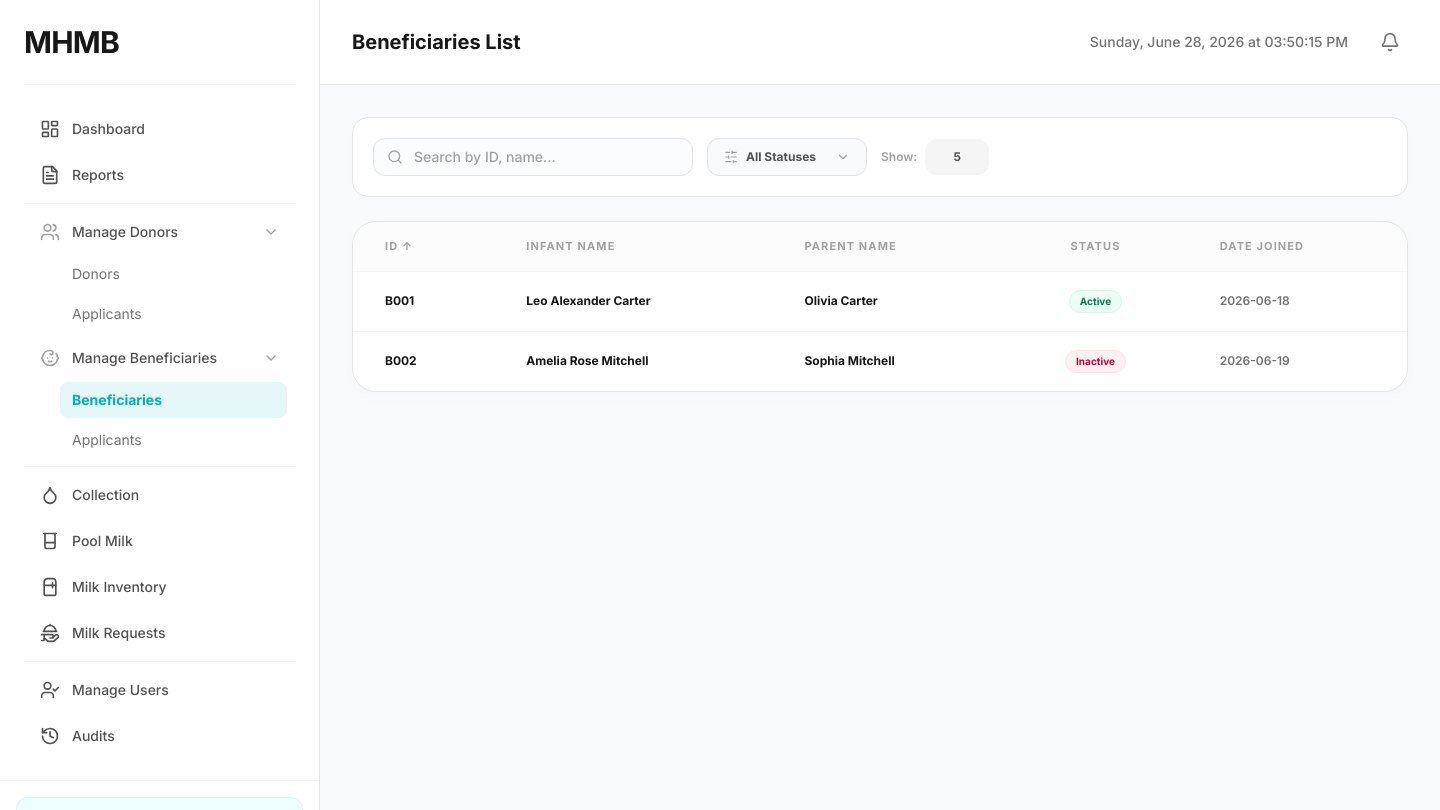
StaffBeneficiariesManagement Component › filters data by search input and status dropdown
This screenshot has width=1440, height=810.
Check: the text "Leo Alexander Carter" is shown, box [494, 271, 772, 331]
Search for "Amelia"
Step 1. Type "Amelia" into the field with test id "search-input" → (533, 157), box [373, 138, 693, 176]
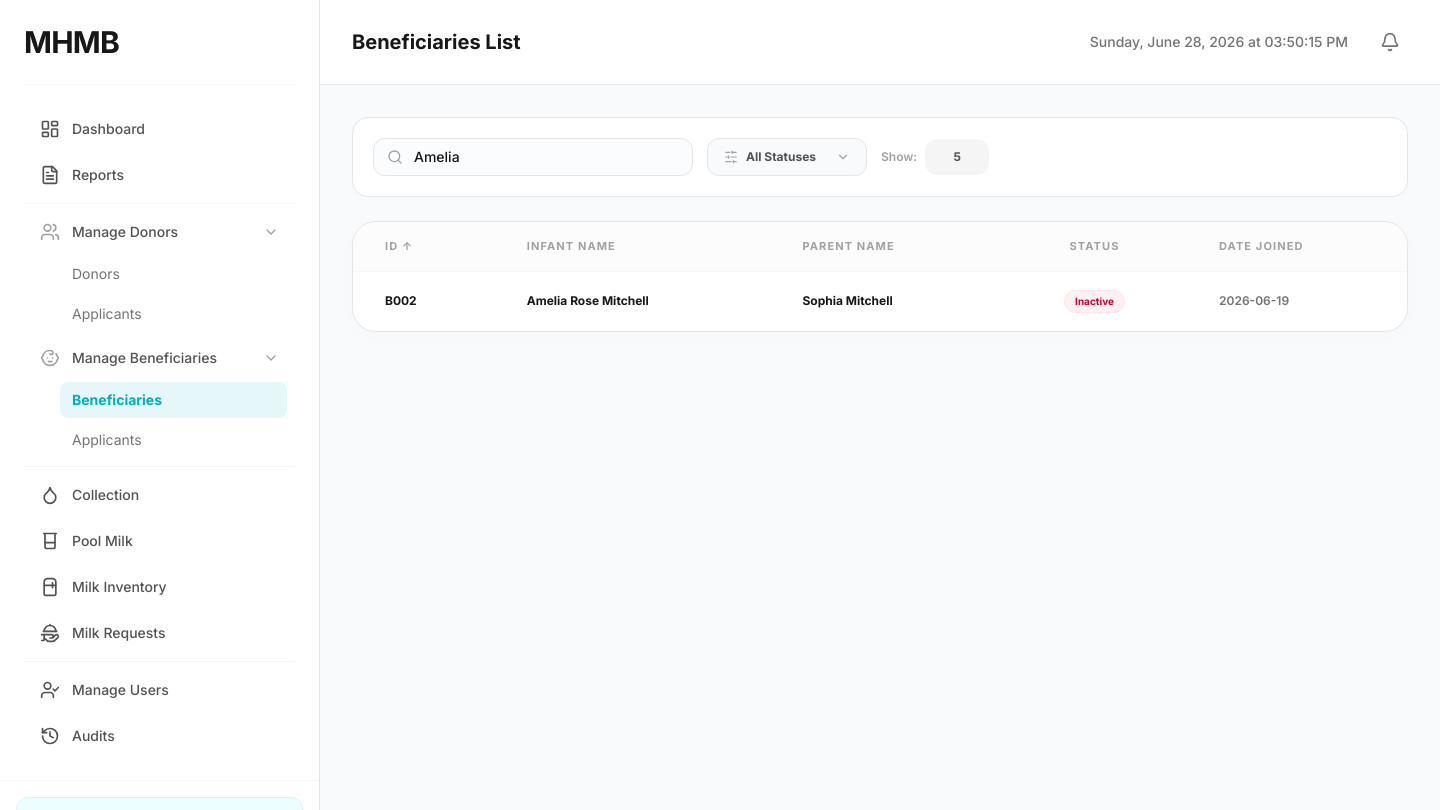
Check: the text "Amelia Rose Mitchell" is shown, box [495, 271, 770, 331]
Check: the text "Leo Alexander Carter" is gone
Clear search
Step 2. Clear the field with test id "search-input" → (533, 157), box [373, 138, 693, 176]
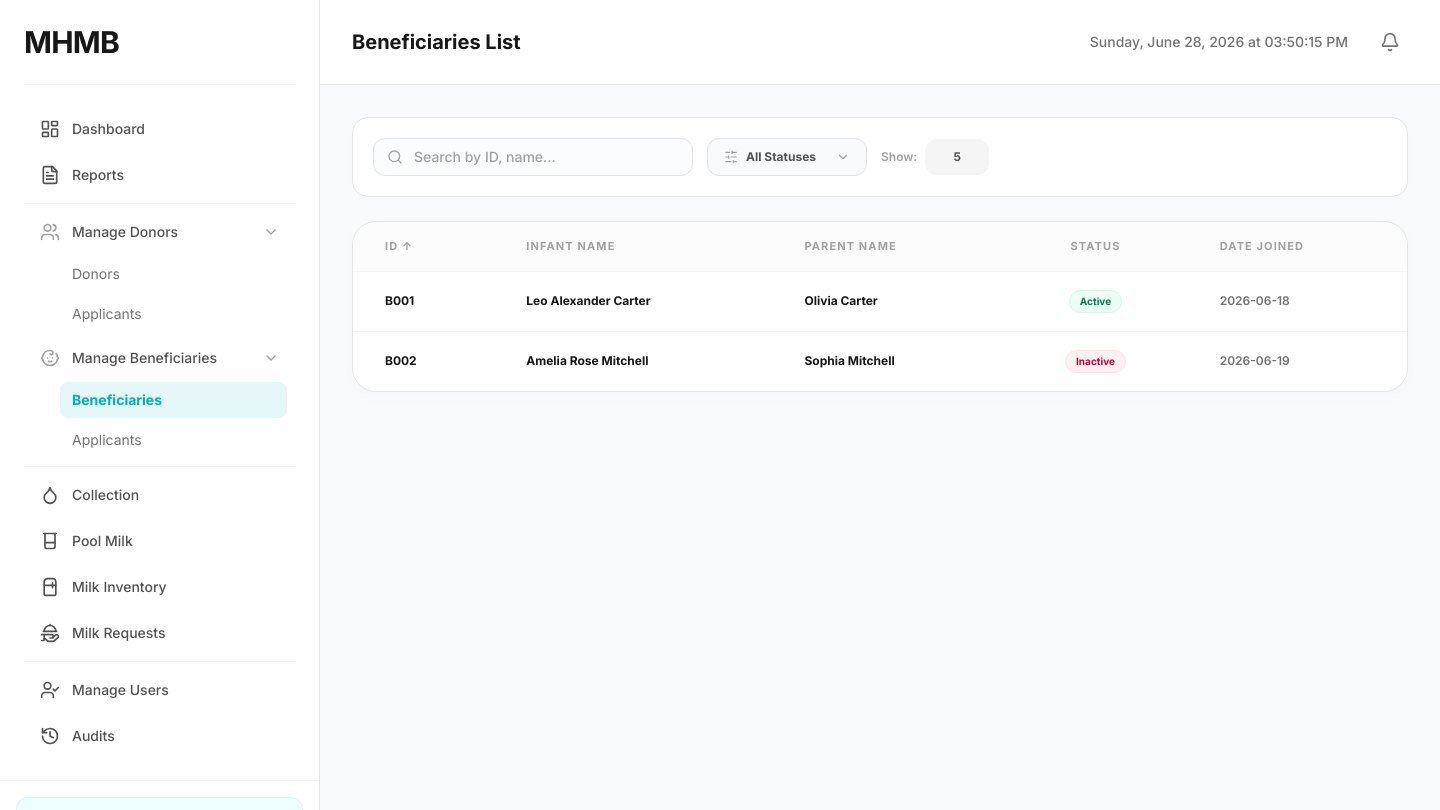
Filter by Inactive status
Step 3. Click the button with test id "status-select" → (787, 157), box [707, 138, 867, 176]
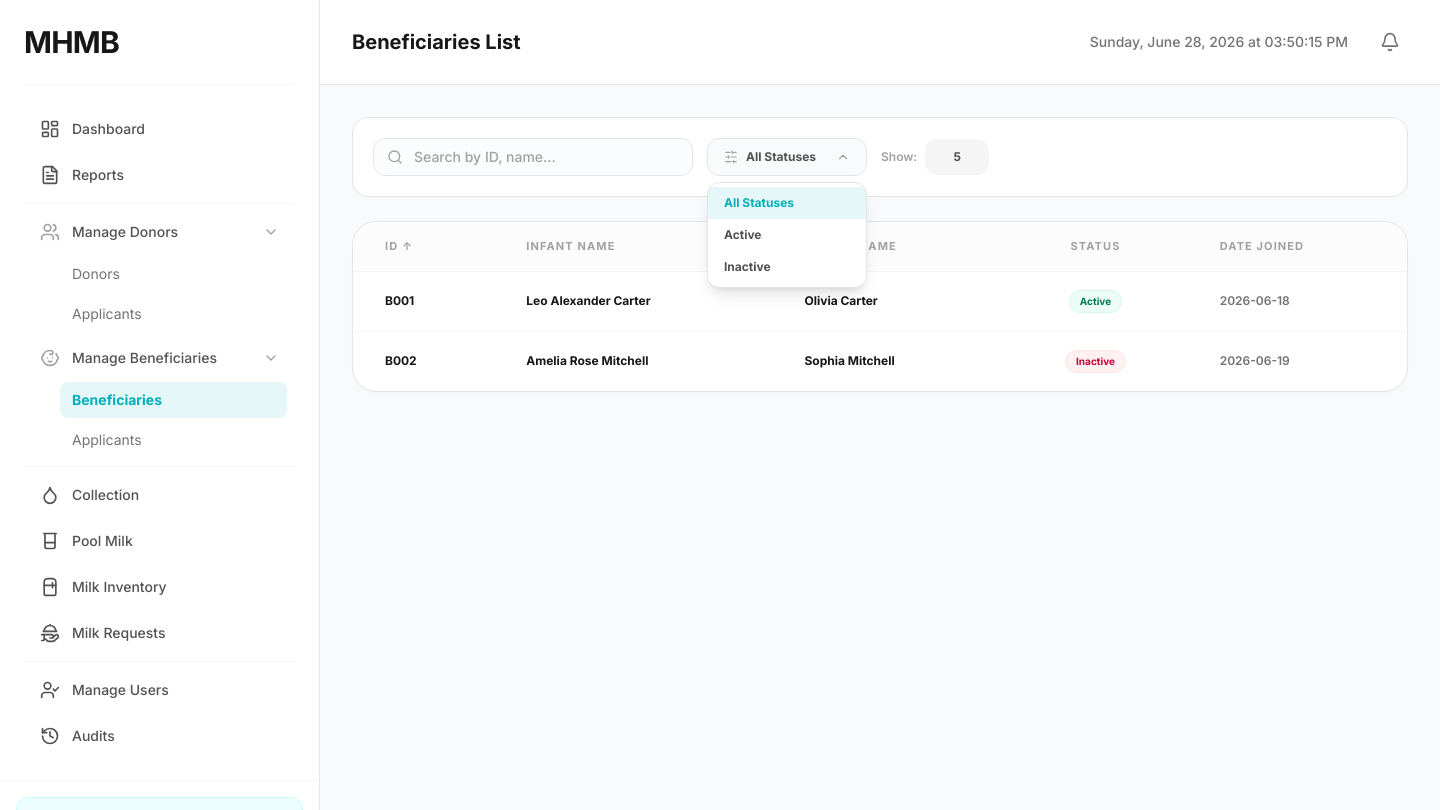
Step 4. Click the button with test id "option-Inactive" → (787, 267), box [708, 251, 866, 283]
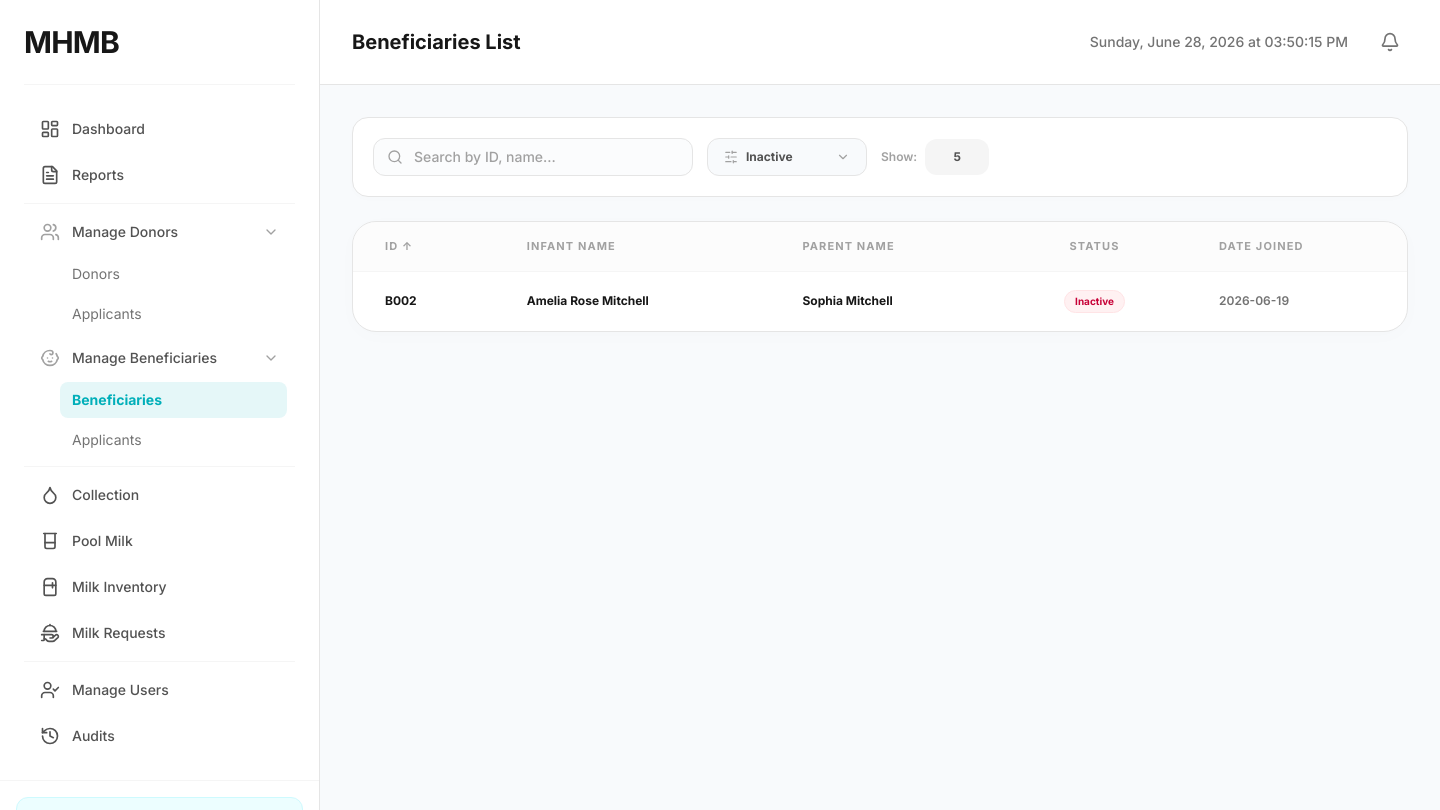
Check: the text "Amelia Rose Mitchell" is shown, box [495, 271, 770, 331]
Check: the text "Leo Alexander Carter" is gone
